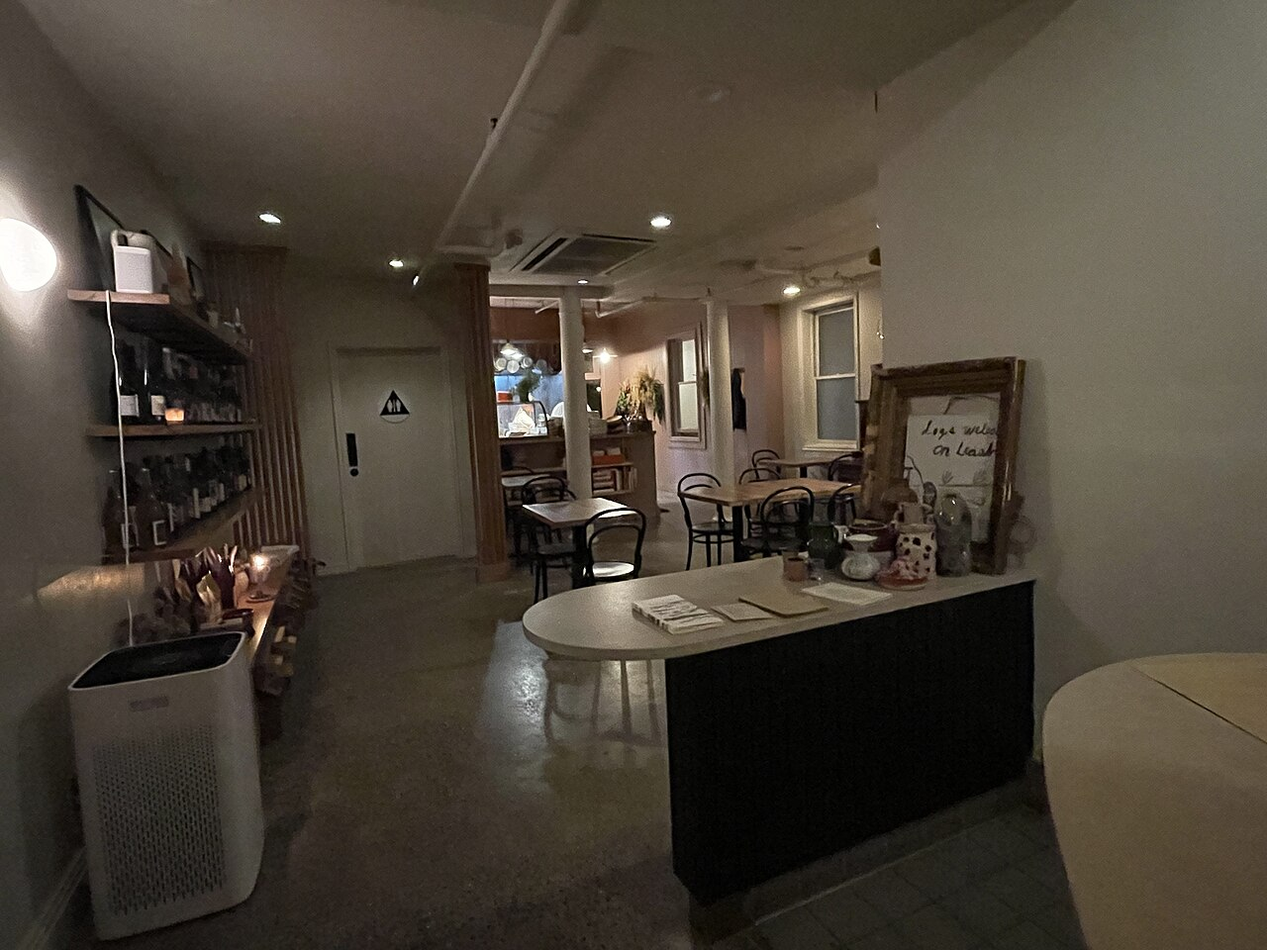unknown_bottle: (135, 463, 170, 549), (118, 345, 140, 422), (145, 346, 166, 424)
